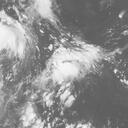cyclone: (44, 44, 98, 88)
